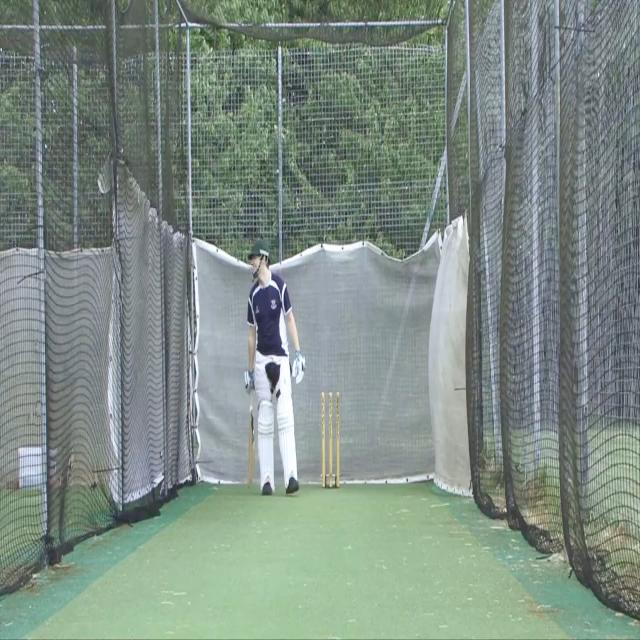batsman: (243, 238, 306, 497)
